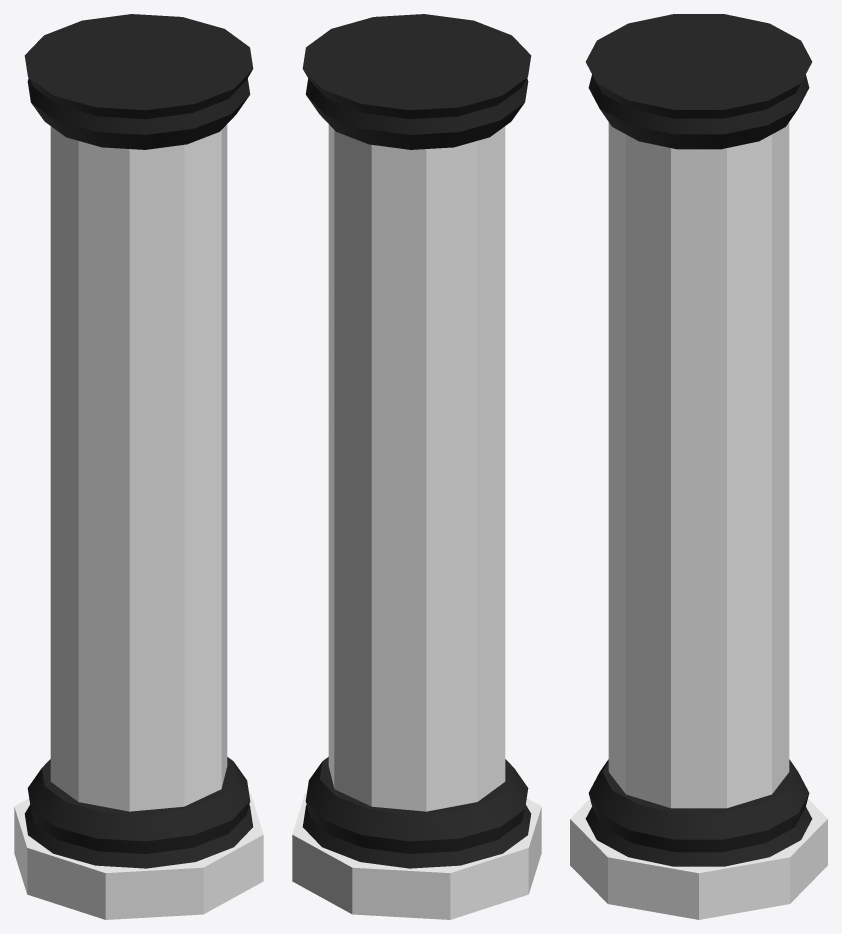
File: Column_Mesh.fbx
3 views of the same model, side by side, from view 1: azimuth 30°, elevation 25°; view 2: azimuth 150°, elevation 25°; view 3: azimuth 270°, elevation 25° (orthographic).
Visible parts, largest first — view 1: Column; view 2: Column; view 3: Column.
Part boxes in pixels (x1=…): Column: x1=14, y1=14, x2=263, y2=919; Column: x1=292, y1=14, x2=541, y2=919; Column: x1=570, y1=14, x2=827, y2=919.
Bounding box in the file's own units: 100 × 344 × 100.
